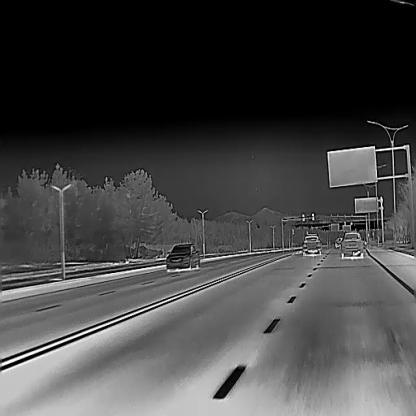car: (165, 241, 201, 270), (338, 231, 364, 258), (302, 232, 321, 256)
